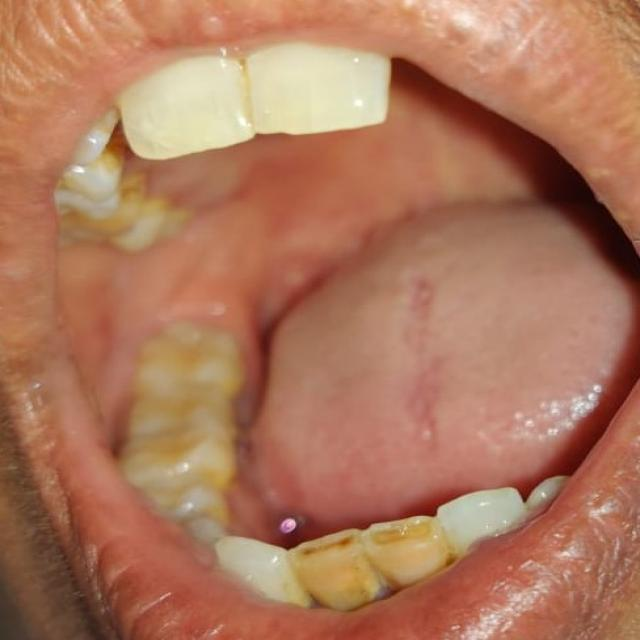No Cancer: (123, 159, 594, 412)
